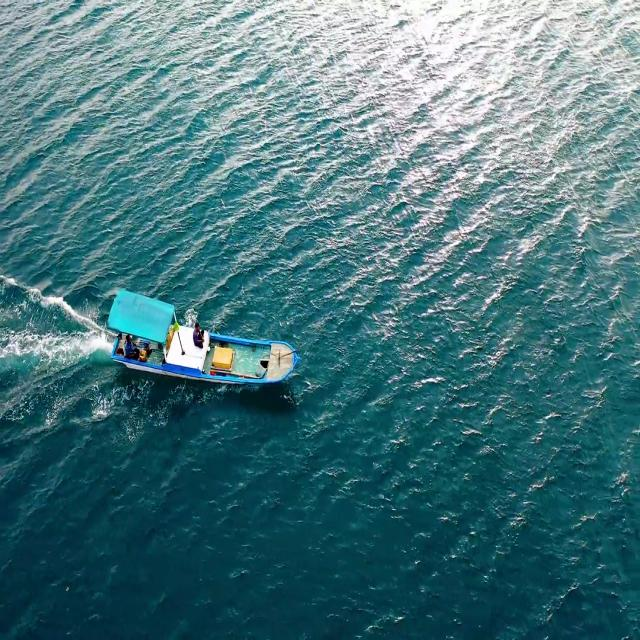ship: (104, 280, 308, 398)
